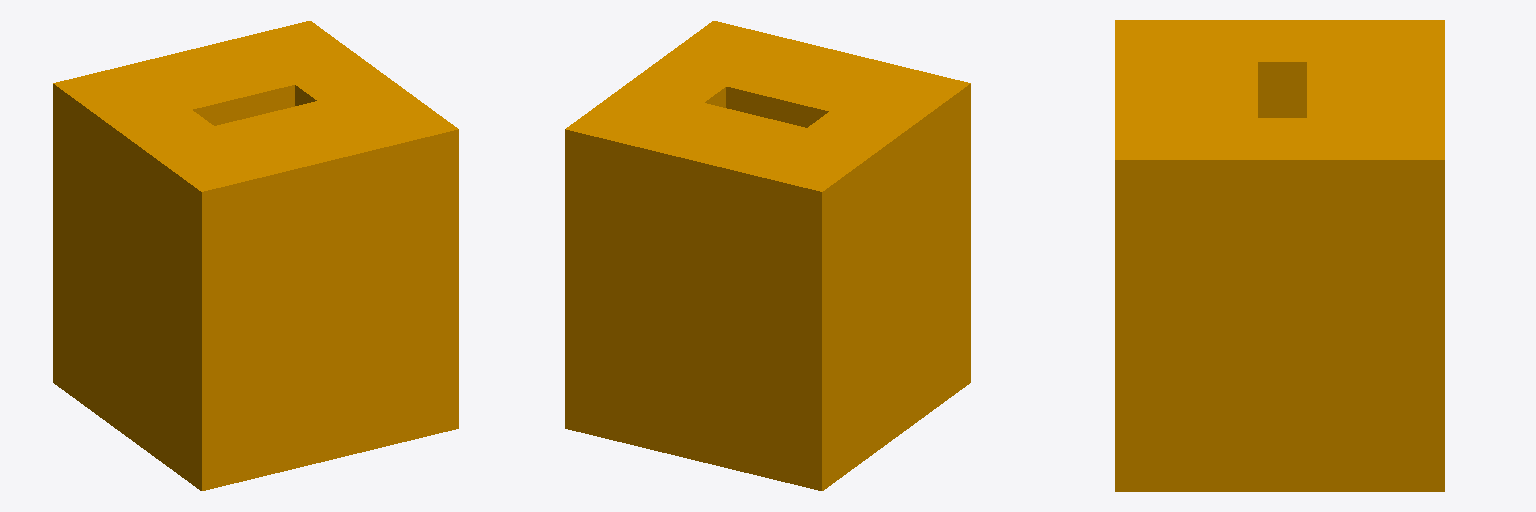
The robot description file, URDF, robot "obj.urdf":
<?xml version="1.0" ?>
<robot name="obj.urdf">
  <link name="baseLink">
    <visual>
      <origin xyz="0 0 0"/>
      <geometry>
        <mesh filename="./obj-and-urdf/usb_place_ori_my.obj" />
      </geometry>
    </visual>
    <collision>
      <origin xyz="0 0 0"/>
      <geometry>
        <mesh filename="./obj-and-urdf/usb_place_ori_my.obj" />
      </geometry>
    </collision>
  </link>
</robot>

--- Render facts (derived) ---
Views: 3 orthographic renders of the robot side by side, from view 1: azimuth 30°, elevation 25°; view 2: azimuth 150°, elevation 25°; view 3: azimuth 270°, elevation 25°.
Model obj.urdf with 1 links and 0 joints (none), rooted at baseLink, posed all joints at 0.
Visible links, largest first — view 1: baseLink; view 2: baseLink; view 3: baseLink.
Link boxes in pixels (left/top/right/bottom): baseLink: left=53, top=21, right=458, bottom=490; baseLink: left=565, top=21, right=970, bottom=490; baseLink: left=1115, top=20, right=1444, bottom=491.
Bounding box of the posed robot: 0.0432 × 0.0432 × 0.048 m (x, y, z).
1 mesh visuals loaded from 1 distinct referenced files (1 OBJ).
